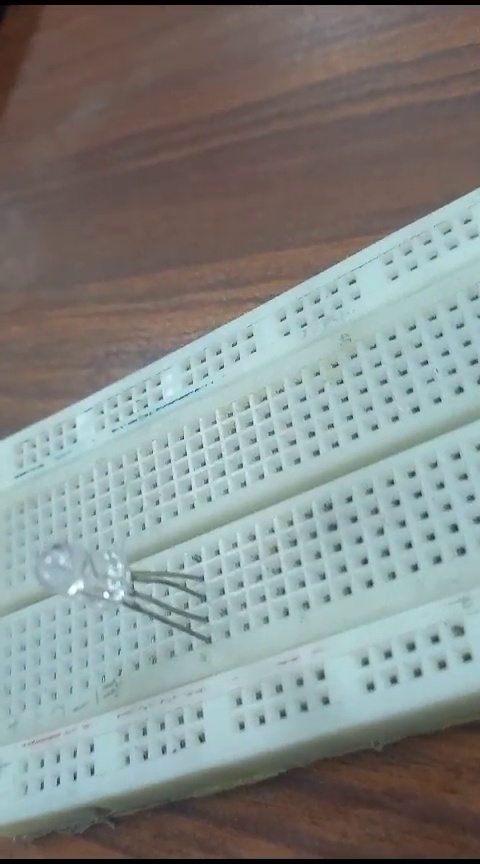LED: (22, 536, 240, 648)
